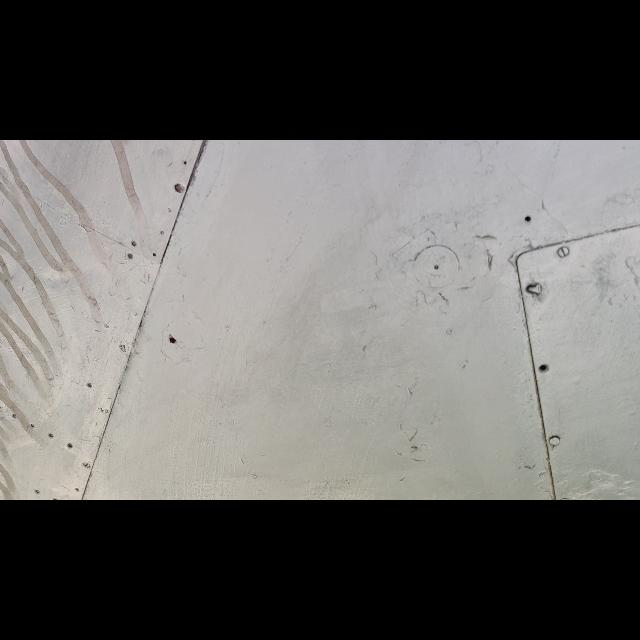dent: (32, 267, 74, 295)
